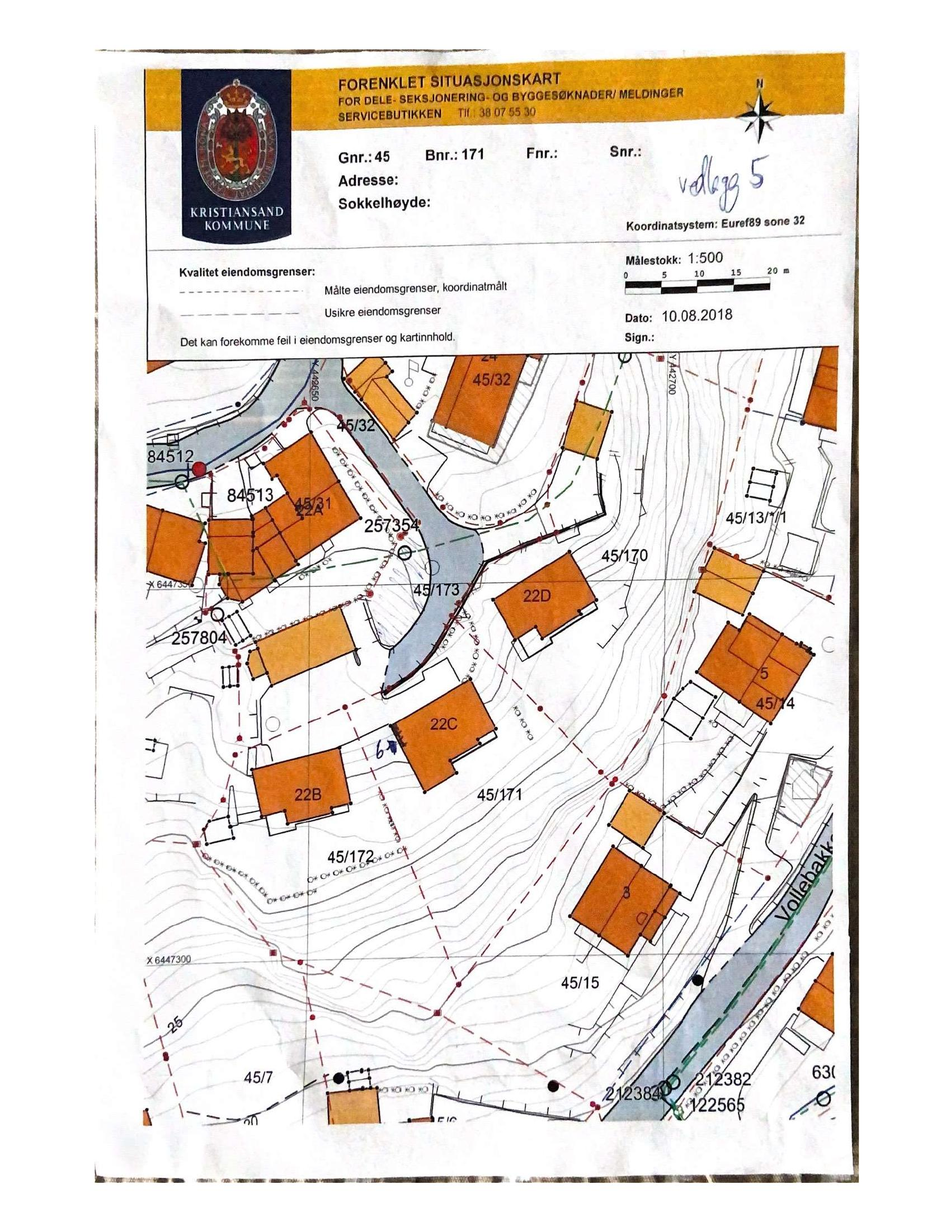situasjonskart: (133, 360, 840, 1130)
tekst: (622, 252, 730, 267)
